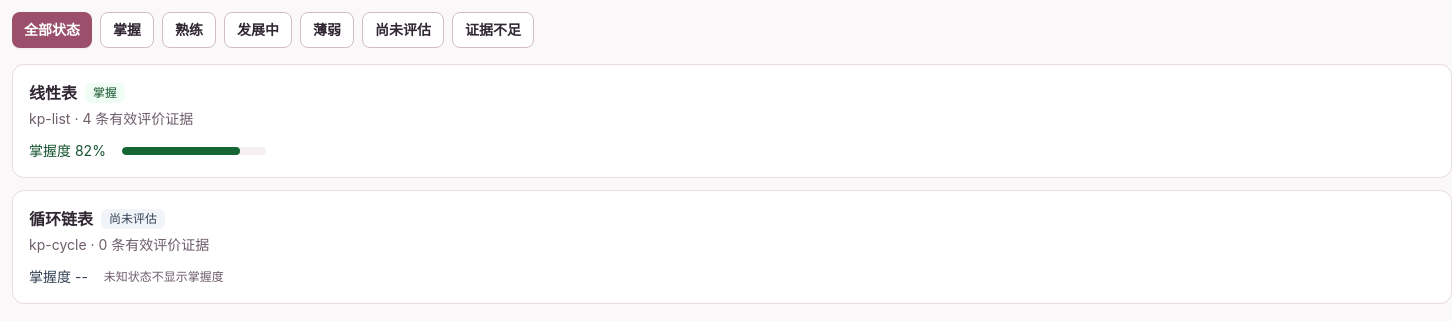
Test: CurriculumMasteryMatrix › filters by the selected diagnosis state and leaves unknown mastery unscored
Step 1. Click the button "尚未评估" → (403, 30), box x1=362 y1=12 x2=444 y2=48
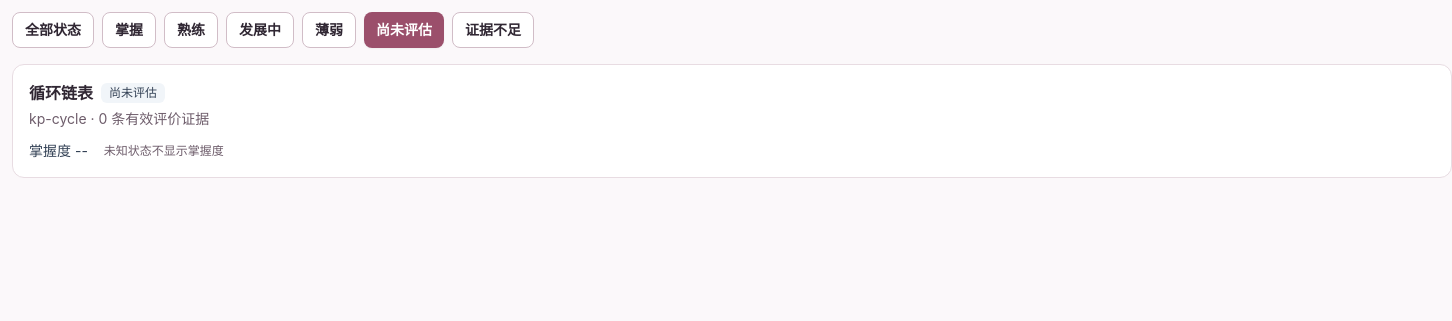
Expected: the button "循环链表 尚未评估 kp-cycle · 0 条有效评价证据" is shown, x1=29 y1=81 x2=1435 y2=129
Now the button "线性表" is gone
Now the progress indicator is gone
